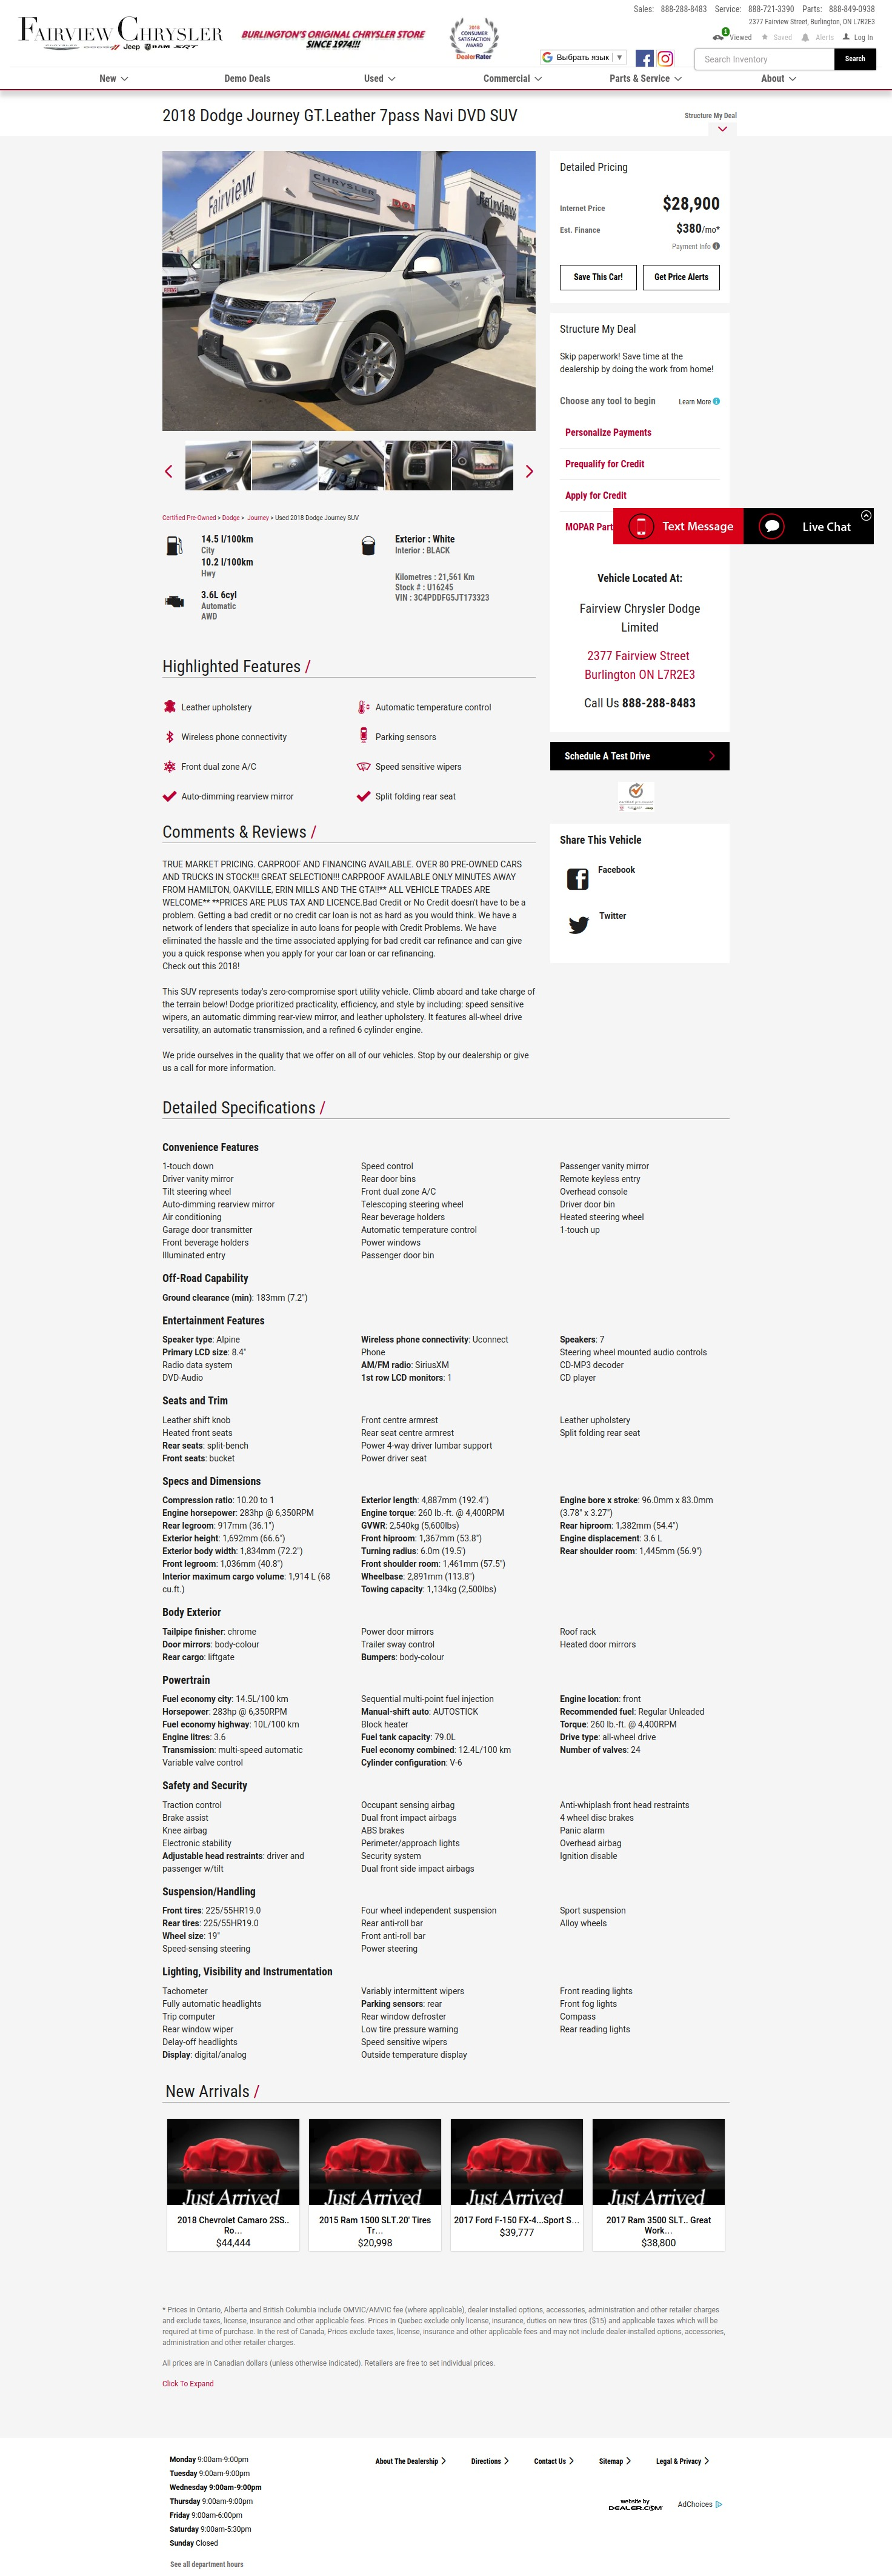car: (526, 465, 534, 478)
